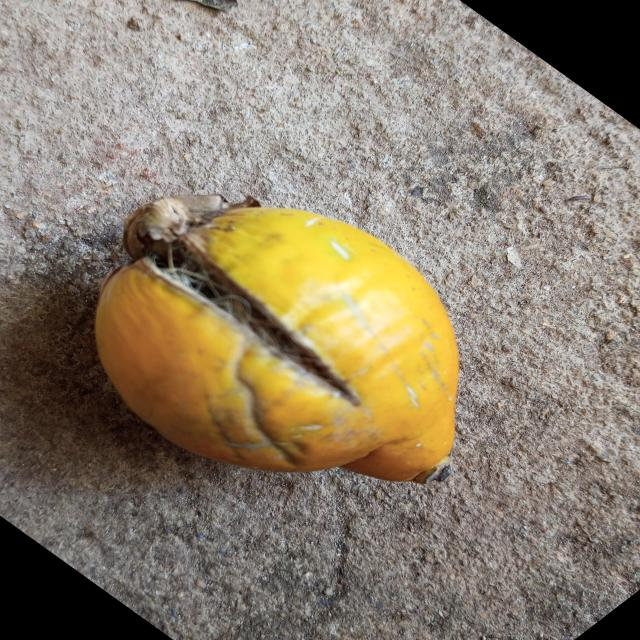damaged: (95, 202, 458, 484)
